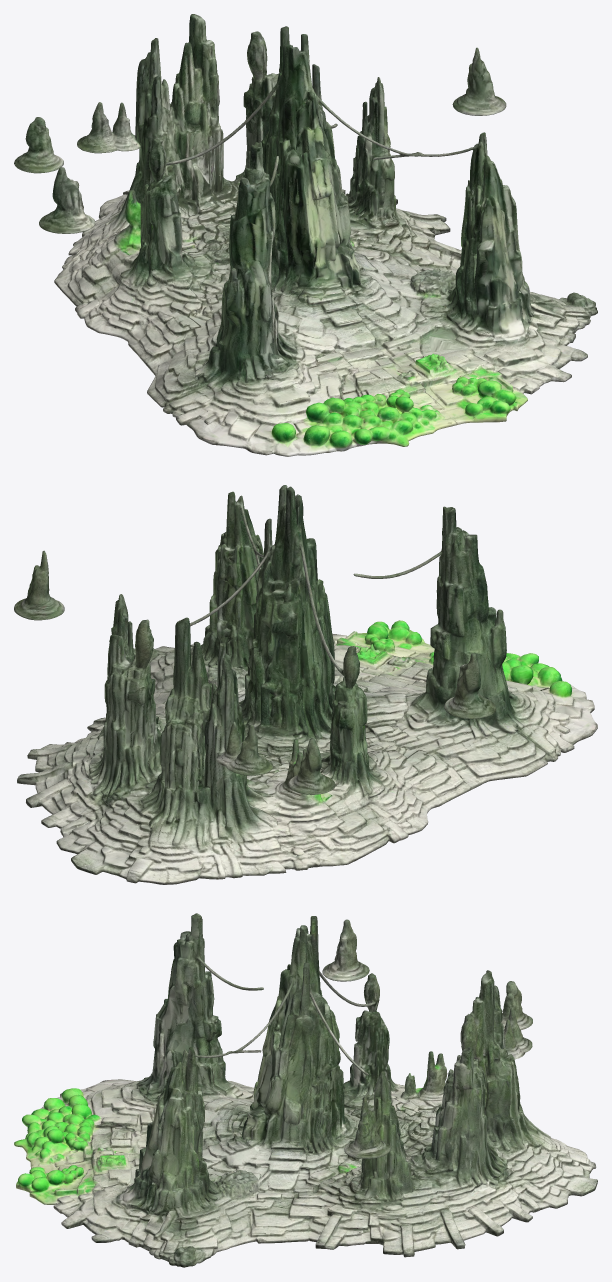
The model's file is Isle_of_the_Stone_Spi.glb.
3 views of the same model, one above another, from view 1: azimuth 30°, elevation 25°; view 2: azimuth 150°, elevation 25°; view 3: azimuth 270°, elevation 25° (orthographic). The views are drawn at different scales.
Visible parts, largest first — view 1: Isle_of_the_Stone_Spi; view 2: Isle_of_the_Stone_Spi; view 3: Isle_of_the_Stone_Spi.
Part boxes in pixels (x1=…): Isle_of_the_Stone_Spi: x1=14, y1=14, x2=597, y2=456; Isle_of_the_Stone_Spi: x1=14, y1=485, x2=597, y2=884; Isle_of_the_Stone_Spi: x1=14, y1=913, x2=597, y2=1267.
Bounding box in the file's own units: 1.56 × 0.8989 × 1.9.
Materials: 1 (1 with a texture image).
